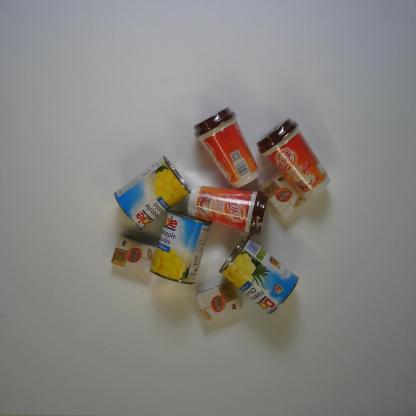Canned Food: (218, 236, 300, 315), (113, 156, 192, 230), (150, 209, 213, 285)
Instant Drink: (257, 117, 332, 198), (193, 106, 261, 190), (187, 185, 270, 237)
Tissue: (258, 170, 306, 221), (195, 281, 242, 323), (110, 236, 158, 274)
